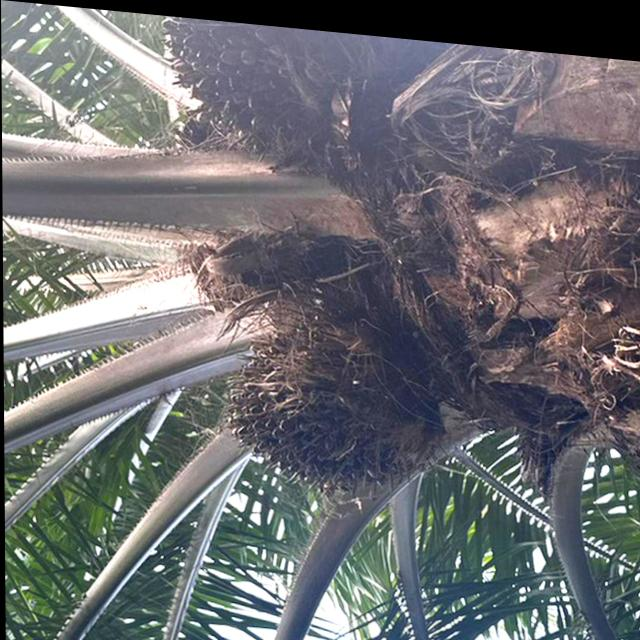unripe: (219, 285, 410, 497), (154, 12, 366, 160)
